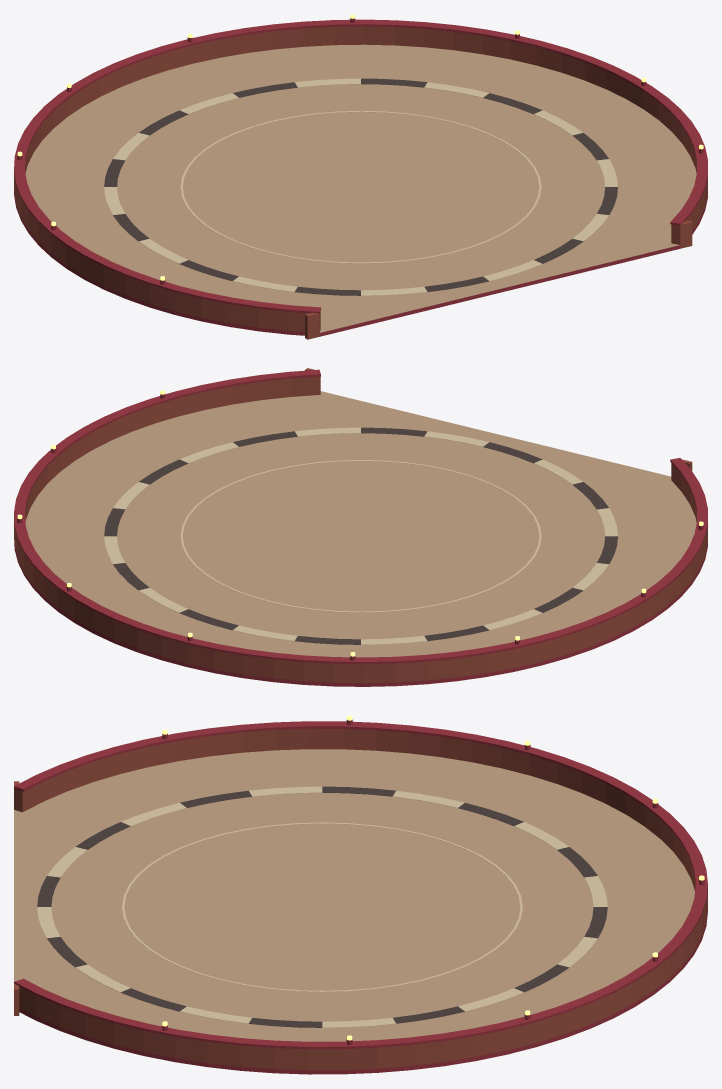
The model's file is PZ_Arena.glb.
The picture shows the model from 3 angles, top to bottom: view 1: azimuth 30°, elevation 25°; view 2: azimuth 150°, elevation 25°; view 3: azimuth 270°, elevation 25°; orthographic projection. The views are drawn at different scales.
Parts seen in each view (by area): view 1: PZ_Arena; view 2: PZ_Arena; view 3: PZ_Arena.
Part boxes in pixels (x1=…): PZ_Arena: x1=14, y1=14, x2=707, y2=339; PZ_Arena: x1=14, y1=368, x2=707, y2=686; PZ_Arena: x1=14, y1=715, x2=707, y2=1074.
Size of the model in its own units: 200 by 10.05 by 180.
2 materials, 2 textured.
